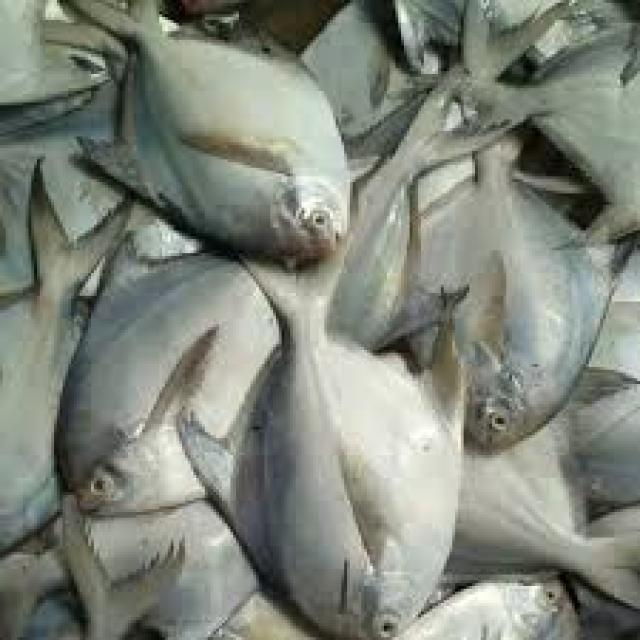pomfred: (173, 237, 463, 637)
